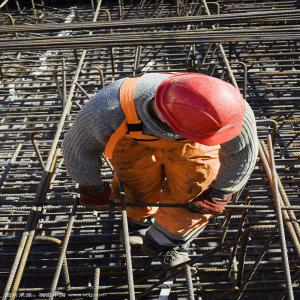red: (144, 76, 248, 149)
